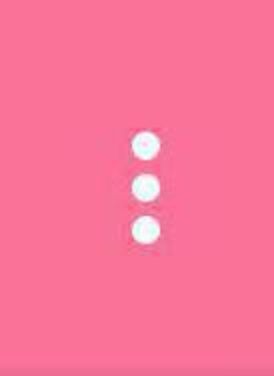ImgButton: (1, 1, 273, 375)
